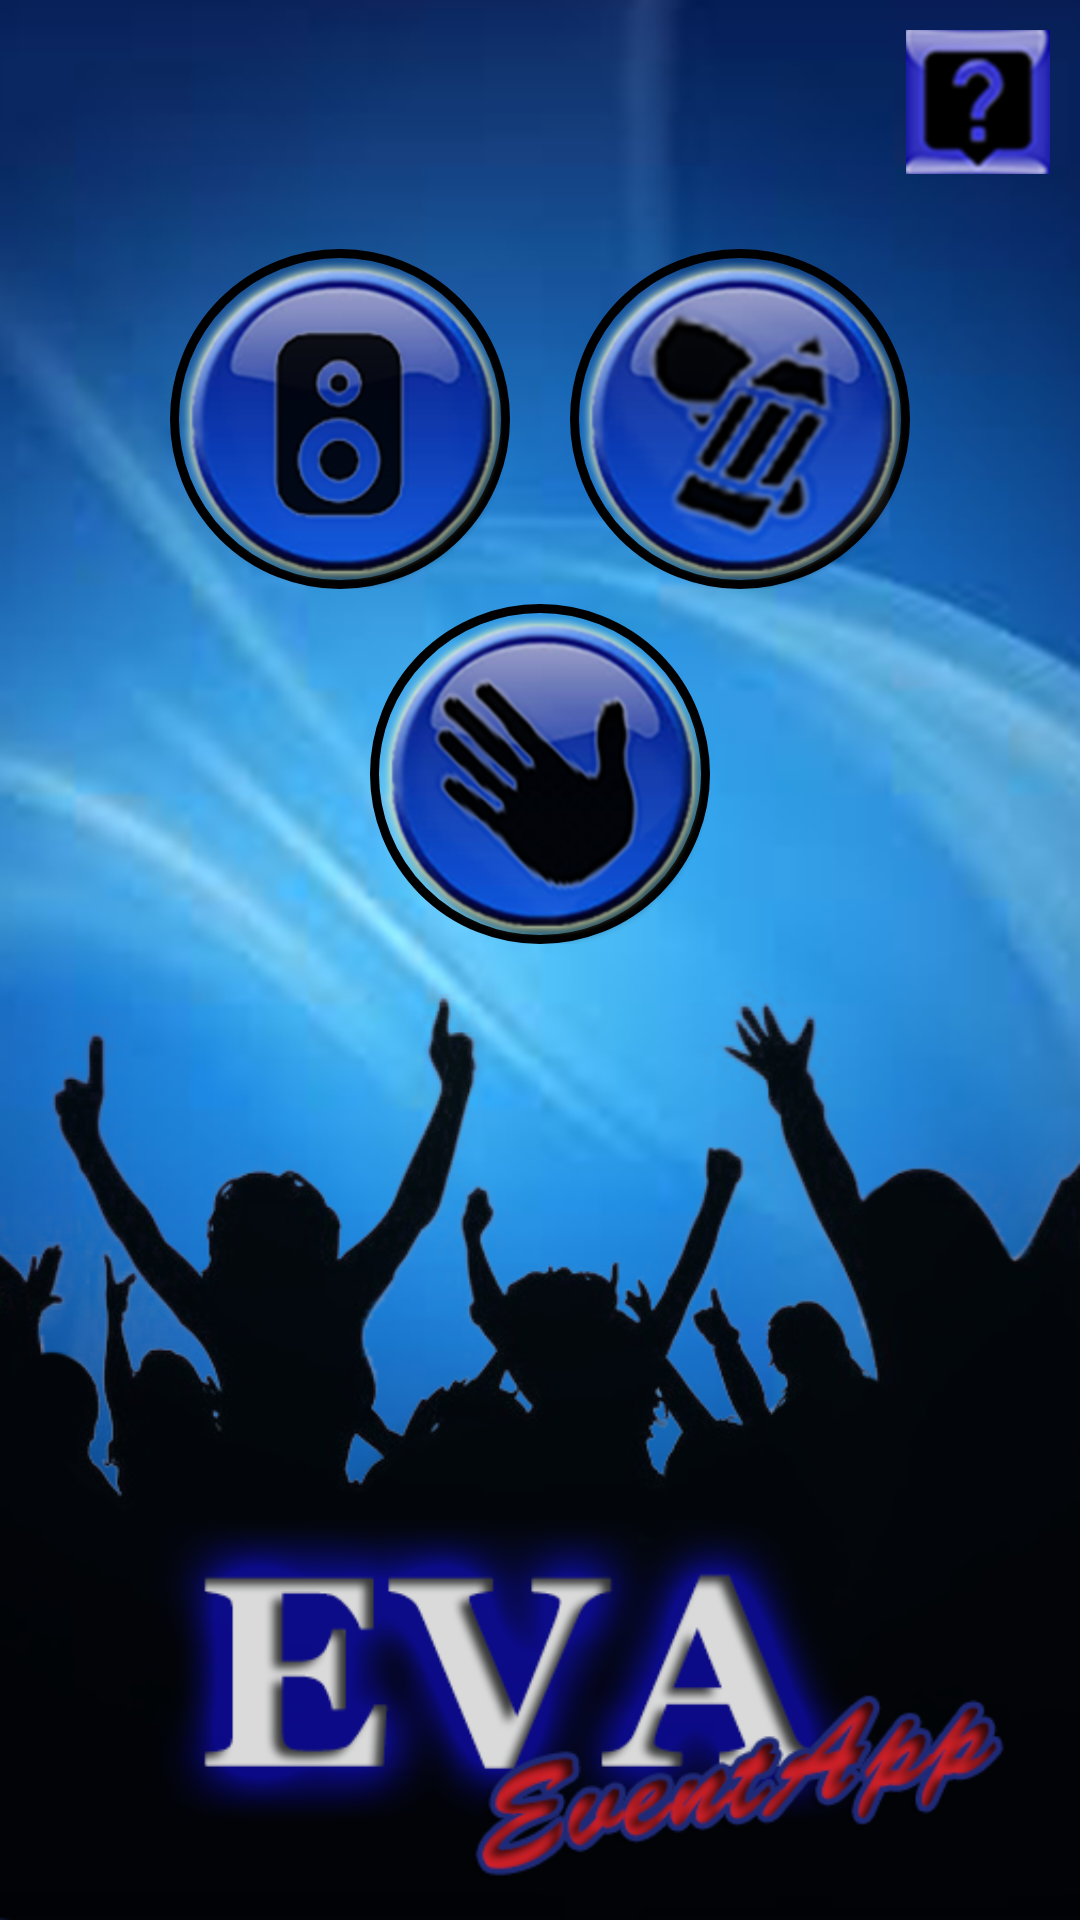

Icons on this 1080*1920 Android screen, each with the point to tap as [x,y]:
beatblitz: [340,419]
info: [978,102]
maler: [740,419]
winker: [540,774]
